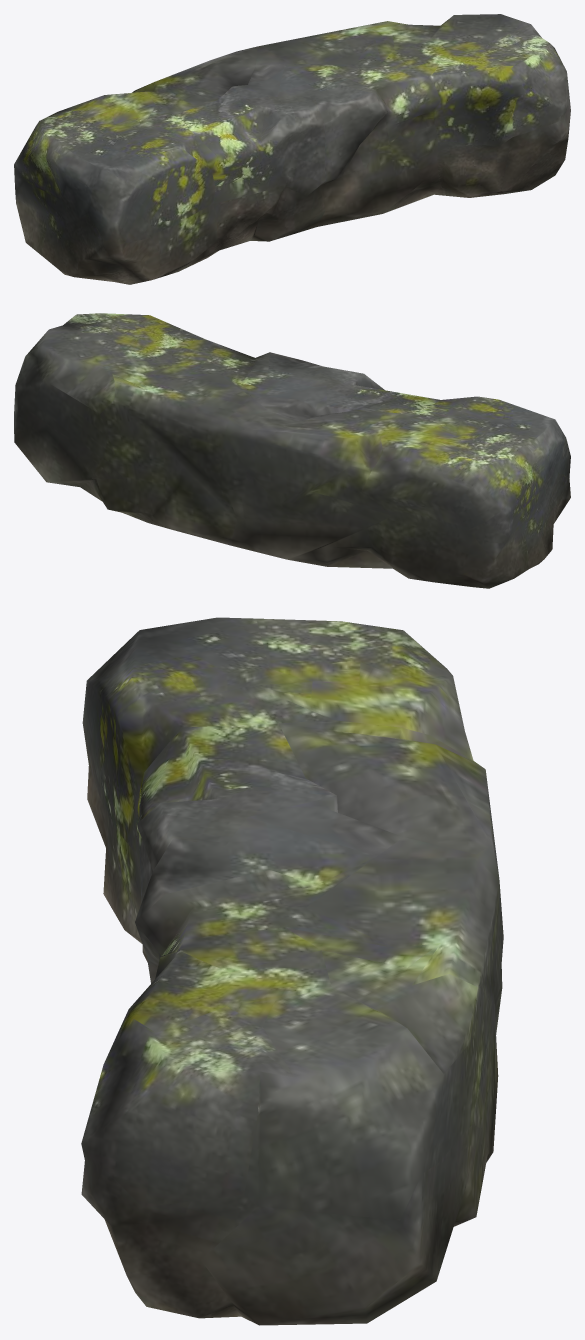
File: sarsen_lintel_lo.glb
The picture shows the model from 3 angles, top to bottom: view 1: azimuth 30°, elevation 25°; view 2: azimuth 150°, elevation 25°; view 3: azimuth 270°, elevation 25°; orthographic projection. The views are drawn at different scales.
Visible parts, largest first — view 1: tripo_node_58163943-a512-4eb5-b671-49b5ce6f902c; view 2: tripo_node_58163943-a512-4eb5-b671-49b5ce6f902c; view 3: tripo_node_58163943-a512-4eb5-b671-49b5ce6f902c.
Part boxes in pixels (bbox=[...]): tripo_node_58163943-a512-4eb5-b671-49b5ce6f902c: bbox=[14, 14, 570, 284]; tripo_node_58163943-a512-4eb5-b671-49b5ce6f902c: bbox=[14, 313, 570, 588]; tripo_node_58163943-a512-4eb5-b671-49b5ce6f902c: bbox=[81, 617, 503, 1325].
Size of the model in its own units: 0.9799 by 0.243 by 0.3613.
1 material, 1 textured.
